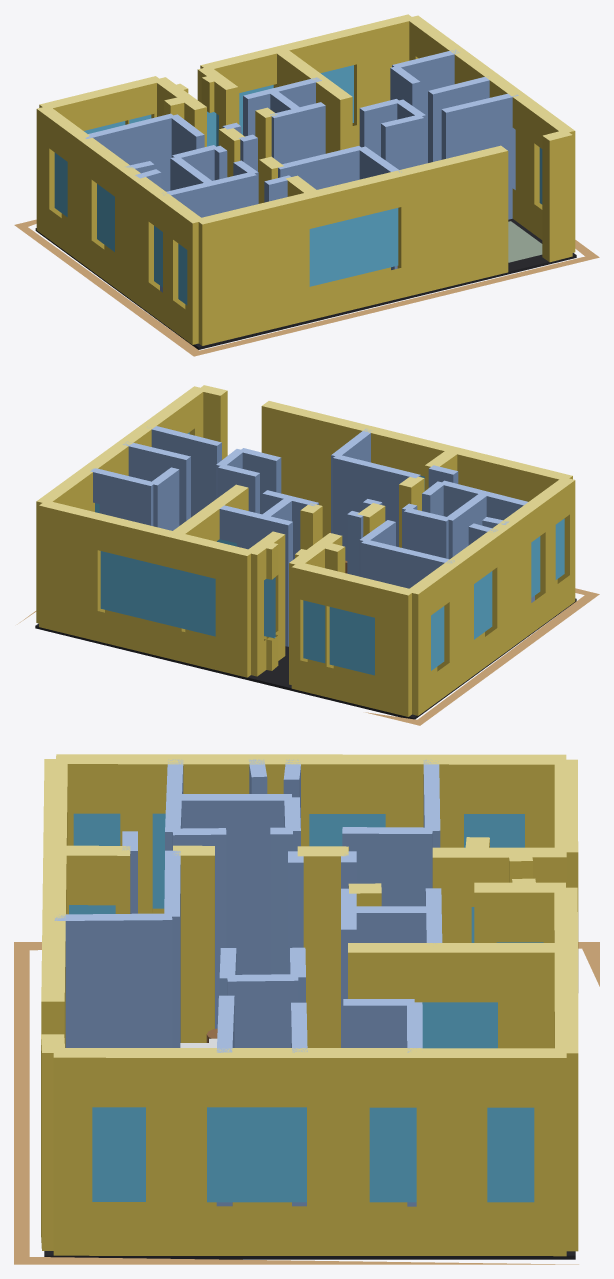
Rendered from building_3d.obj.
The picture shows the model from 3 angles, top to bottom: view 1: azimuth 30°, elevation 25°; view 2: azimuth 150°, elevation 25°; view 3: azimuth 270°, elevation 25°; orthographic projection. The views are drawn at different scales.
Parts seen in each view (by area): view 1: Building; view 2: Building; view 3: Building.
Part boxes in pixels (<box>): Building: <box>14,14,599,356</box>; Building: <box>17,385,599,725</box>; Building: <box>14,754,599,1264</box>.
Bounding box in the file's own units: 9.79 × 2.87 × 7.51.
